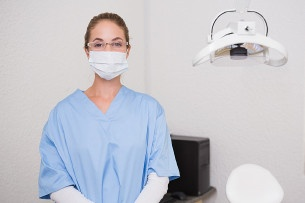Mask: (86, 35, 132, 80)
